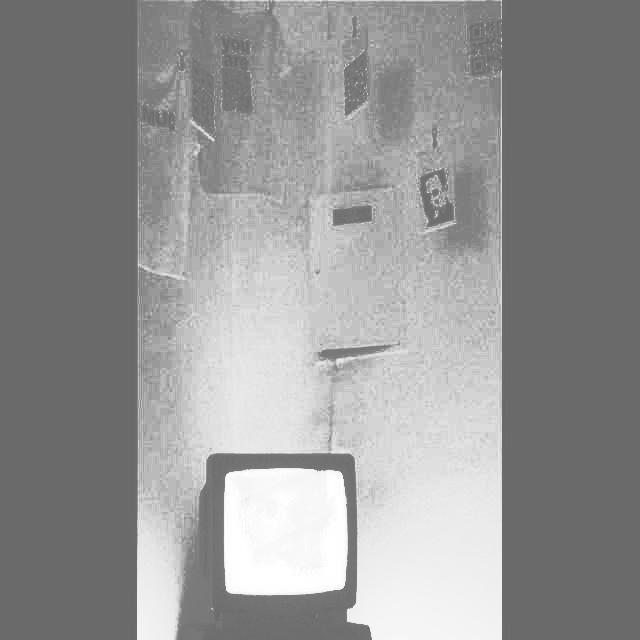qr_code: (470, 20, 501, 75), (193, 58, 212, 133), (345, 51, 366, 115), (222, 69, 251, 111)
